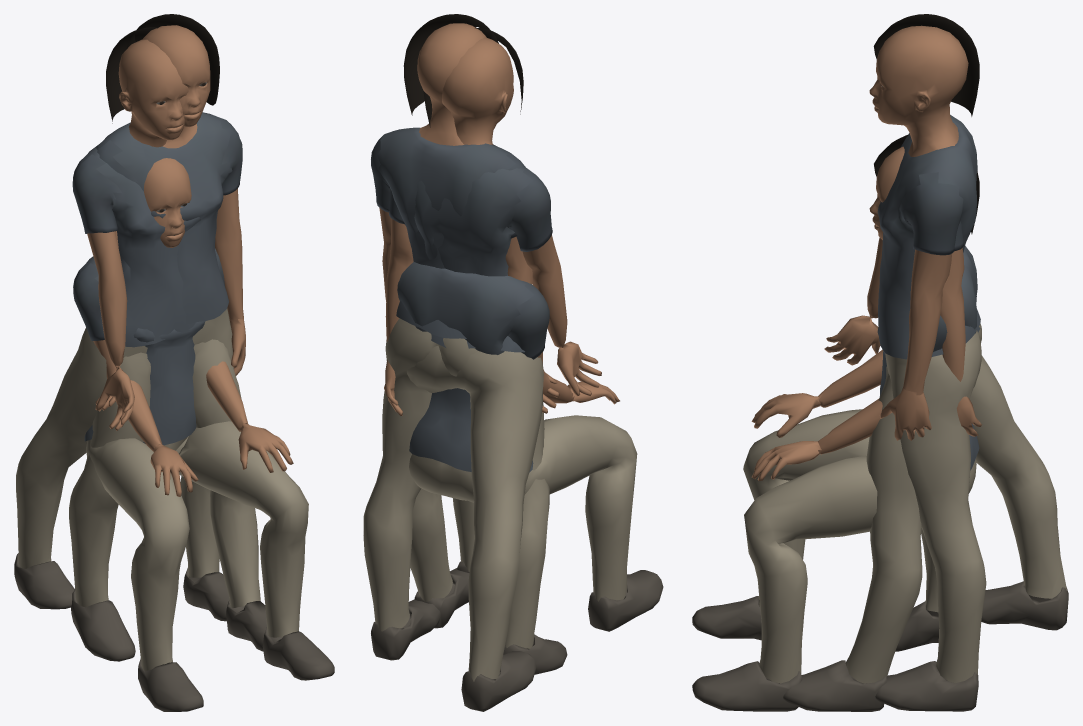
File: crowd-01-middle.glb
3 renders of one model, left to right at view 1: azimuth 30°, elevation 25°; view 2: azimuth 150°, elevation 25°; view 3: azimuth 270°, elevation 25°, orthographic. The views are drawn at different scales.
Visible parts, largest first — view 1: seated, walking, standing; view 2: walking, standing, seated; view 3: standing, walking, seated.
Part boxes in pixels (x1=…): seated: x1=73, y1=158, x2=334, y2=711; walking: x1=14, y1=27, x2=282, y2=651; standing: x1=69, y1=14, x2=245, y2=661; walking: x1=384, y1=28, x2=601, y2=711; standing: x1=363, y1=14, x2=567, y2=674; seated: x1=397, y1=144, x2=663, y2=631; standing: x1=869, y1=14, x2=986, y2=711; walking: x1=779, y1=14, x2=1068, y2=711; seated: x1=692, y1=134, x2=979, y2=711.
Bounding box in the file's own units: 0.4079 × 1.33 × 0.6838.
